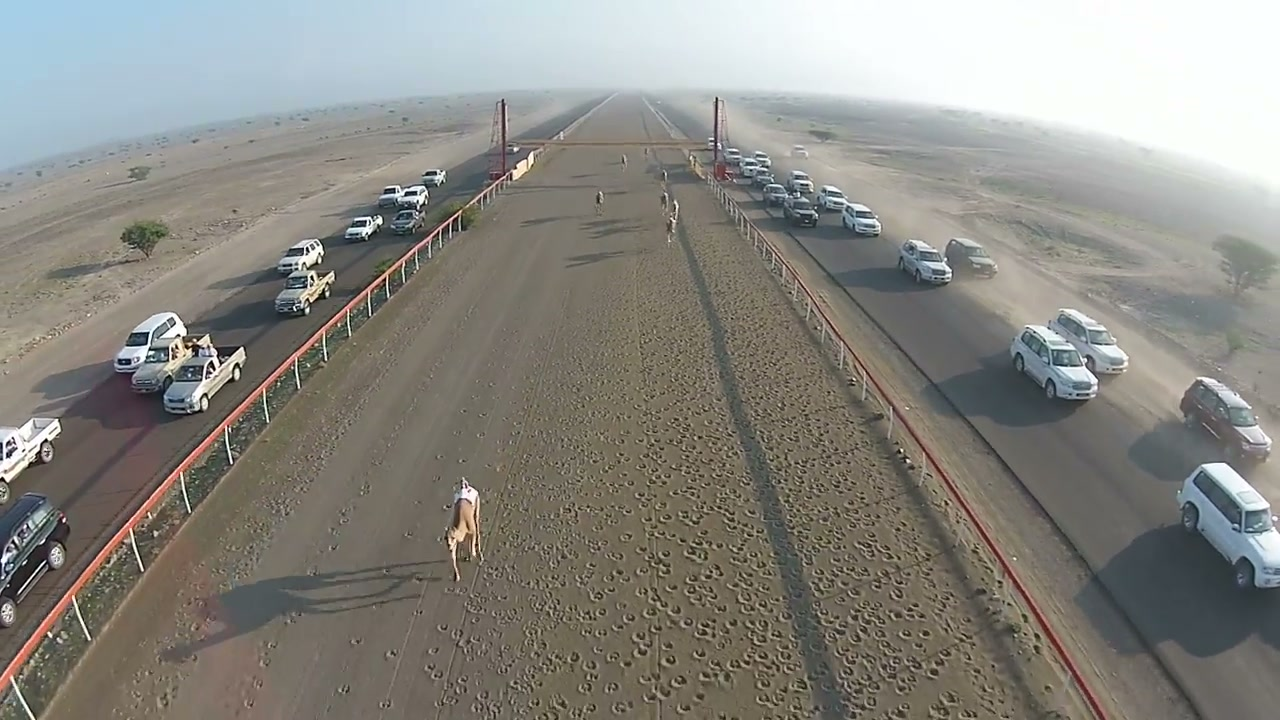animal_footprint: (482, 246, 957, 718), (326, 574, 480, 719)
